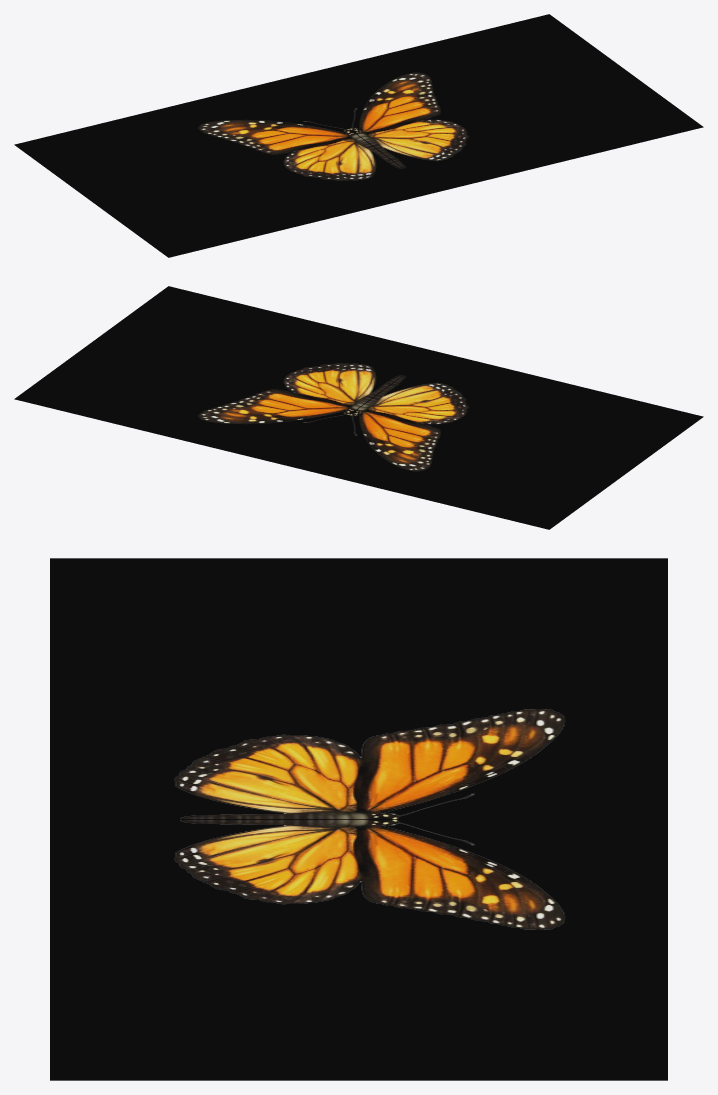
The model's file is FXSM_Butterfly.FBX.
3 views of the same model, one above another, from view 1: azimuth 30°, elevation 25°; view 2: azimuth 150°, elevation 25°; view 3: azimuth 270°, elevation 25° (orthographic). The views are drawn at different scales.
Parts seen in each view (by area): view 1: FXSM_Butterfly; view 2: FXSM_Butterfly; view 3: FXSM_Butterfly.
Part boxes in pixels (<box>): FXSM_Butterfly: <box>14,14,703,257</box>; FXSM_Butterfly: <box>14,286,703,529</box>; FXSM_Butterfly: <box>50,558,667,1080</box>.
Bounding box in the file's own units: 120 × 3.67e-15 × 60.
